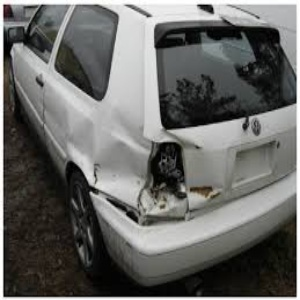bumper: (92, 193, 182, 286)
tail_lights: (135, 136, 193, 217)
